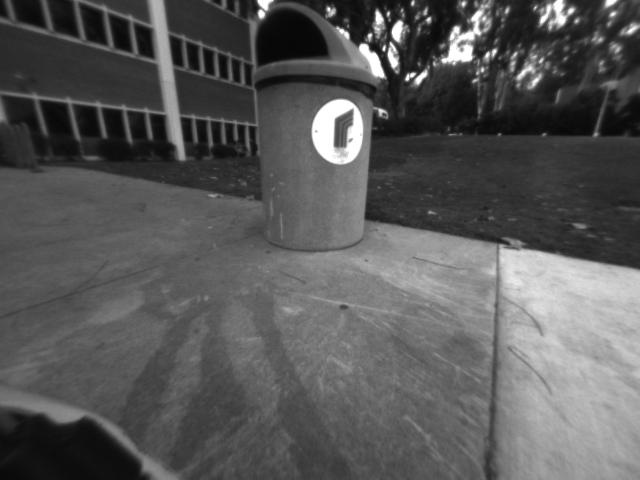trashcan: (246, 1, 376, 252)
